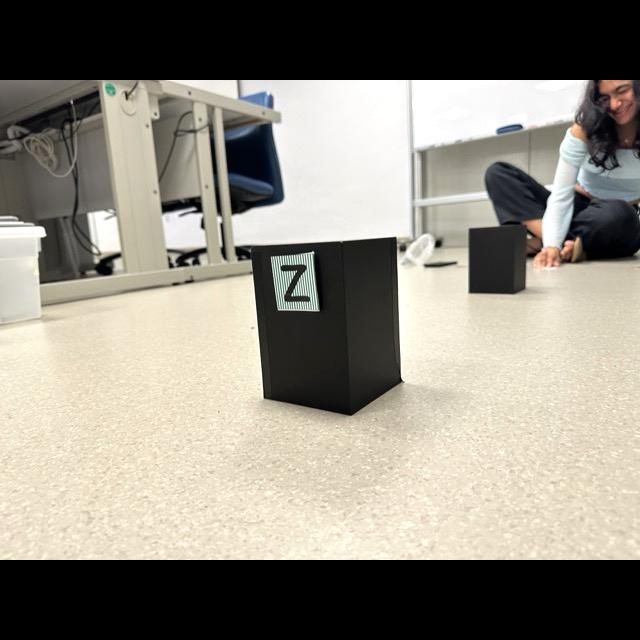Z: (281, 264, 311, 302)
